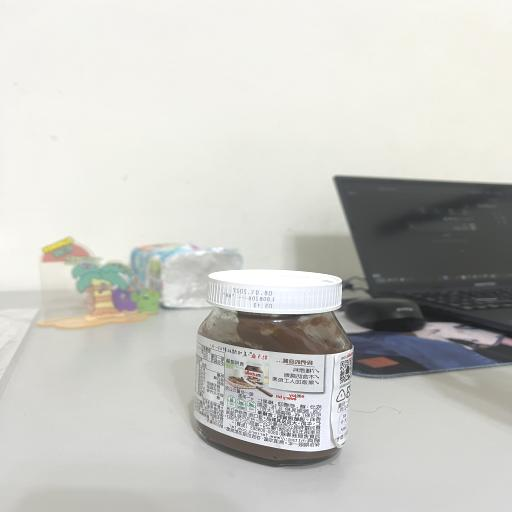chocolate_jar: (193, 270, 353, 466)
